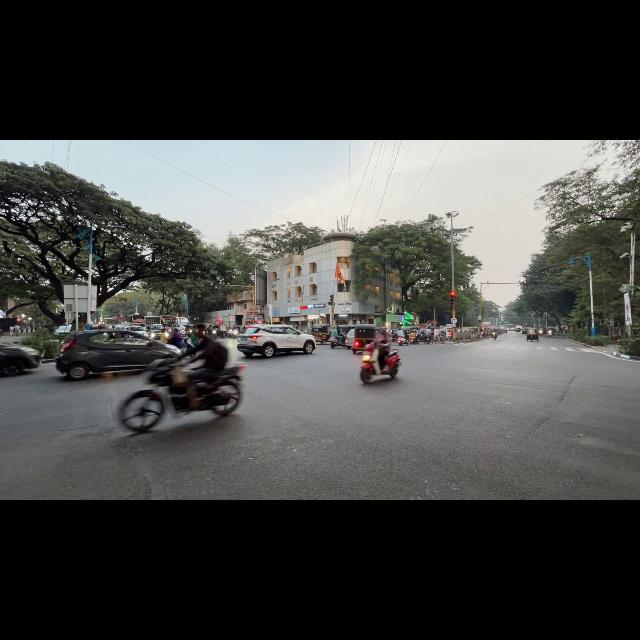bus: (145, 315, 177, 326), (125, 314, 146, 326), (104, 317, 126, 325)
car: (56, 330, 180, 379), (237, 325, 315, 357), (0, 344, 40, 375), (149, 325, 169, 340), (128, 326, 148, 336), (346, 328, 355, 348), (54, 325, 72, 335), (114, 324, 127, 329)
motorcycle: (118, 359, 245, 432), (360, 344, 400, 383), (329, 337, 345, 348), (417, 332, 428, 343), (397, 337, 408, 345), (410, 335, 419, 344), (547, 330, 552, 337), (492, 332, 497, 339)
